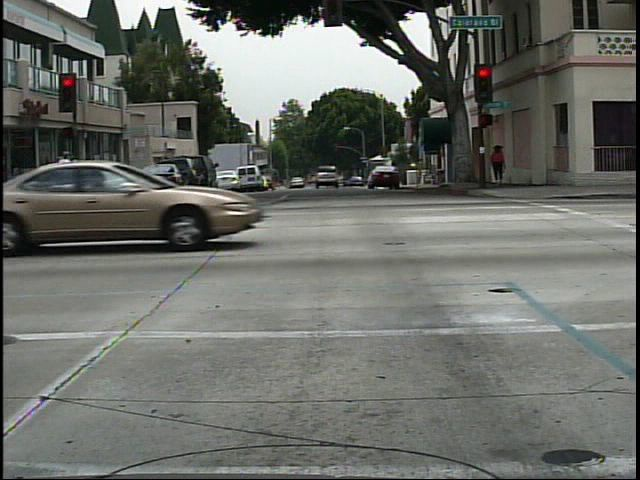person: (49, 143, 78, 205), (490, 142, 507, 185)
